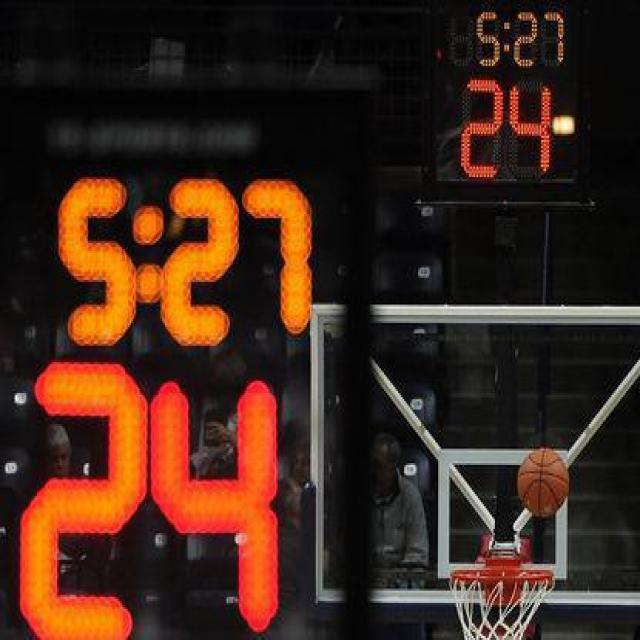Basketball: (518, 448, 570, 518)
hoop: (450, 570, 555, 640)
